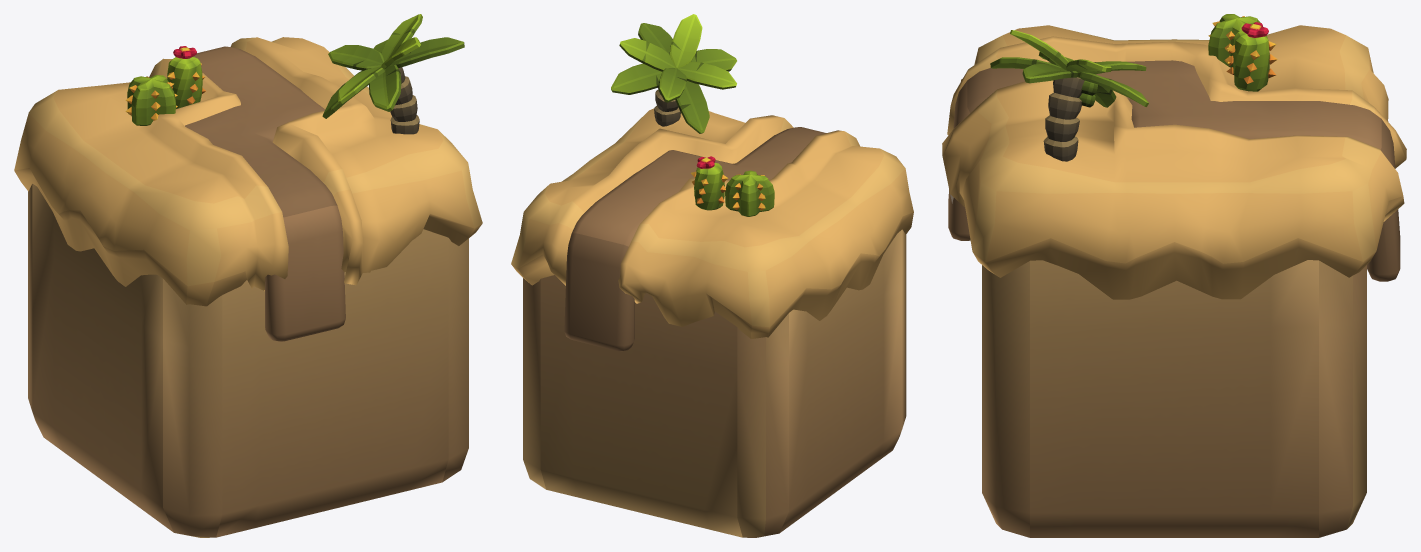
Rendered from Desert6.fbx.
3 views of the same model, side by side, from view 1: azimuth 30°, elevation 25°; view 2: azimuth 150°, elevation 25°; view 3: azimuth 270°, elevation 25° (orthographic). The views are drawn at different scales.
Visible parts, largest first — view 1: Desert6, Desert_Cube6.001, Desert6.002, Desert_Cube_06 .002; view 2: Desert6, Desert_Cube6.001, Desert6.002, Desert_Cube_06 .002; view 3: Desert6, Desert_Cube6.001, Desert6.002, Desert_Cube_06 .002.
Boxes of the visible parts, x1=… form: Desert6: x1=28, y1=183, x2=468, y2=537; Desert_Cube6.001: x1=14, y1=37, x2=482, y2=306; Desert6.002: x1=185, y1=46, x2=345, y2=341; Desert_Cube_06 .002: x1=125, y1=14, x2=464, y2=134; Desert6: x1=523, y1=229, x2=906, y2=537; Desert_Cube6.001: x1=511, y1=108, x2=913, y2=338; Desert6.002: x1=564, y1=127, x2=826, y2=351; Desert_Cube_06 .002: x1=611, y1=14, x2=774, y2=216; Desert6: x1=982, y1=260, x2=1366, y2=537; Desert_Cube6.001: x1=942, y1=25, x2=1406, y2=299; Desert6.002: x1=948, y1=60, x2=1400, y2=281; Desert_Cube_06 .002: x1=990, y1=14, x2=1277, y2=161.
Size of the model in its own units: 112 by 143 by 121.
